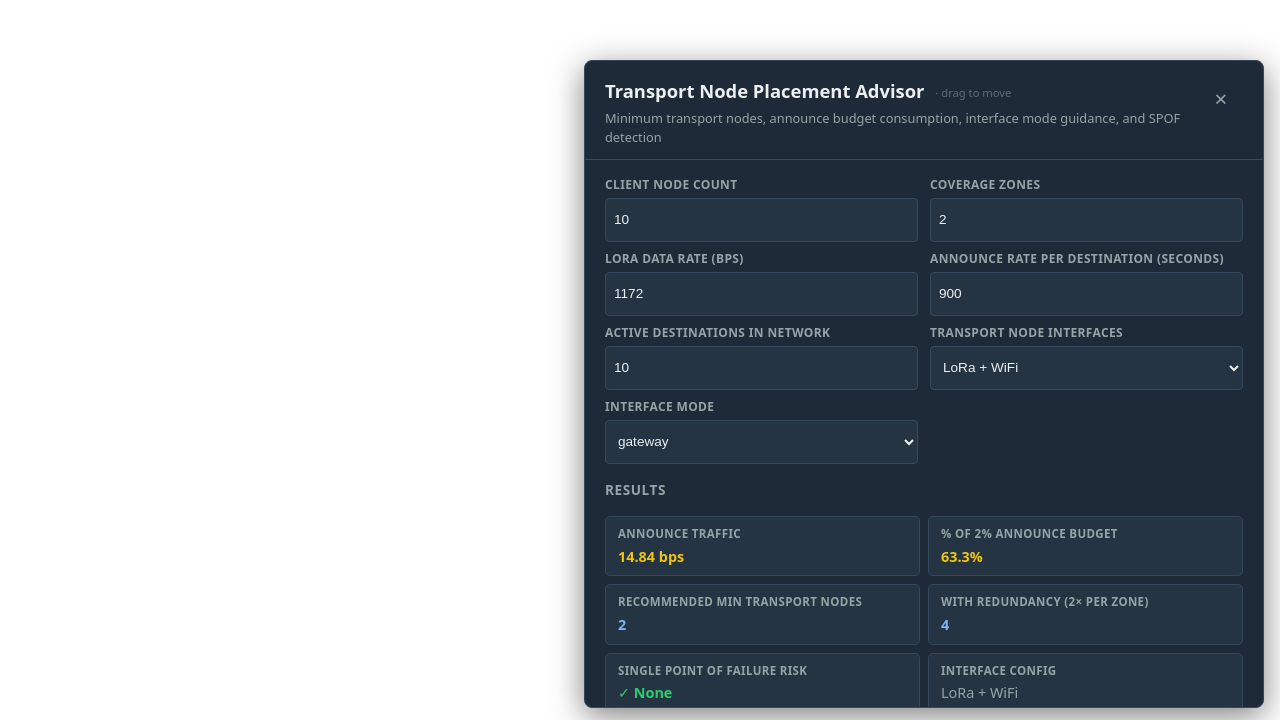
Test: RNSTransportModal — interaction › convergence warning shown for many transport nodes (>10)
Step 1. Replace the text in the number field labelled "Coverage zones" with "20" → (1086, 220), box [930,198,1243,242]
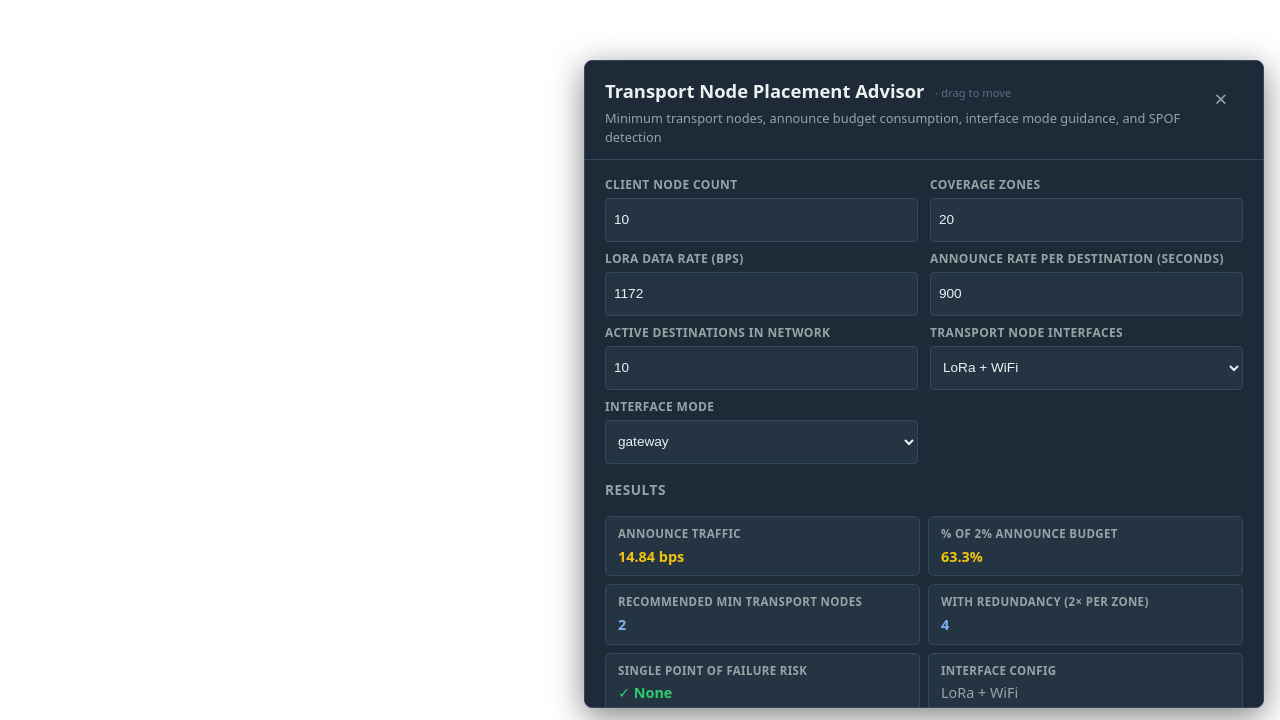
Step 2. Leave the number field labelled "Coverage zones", box [930,198,1243,242]
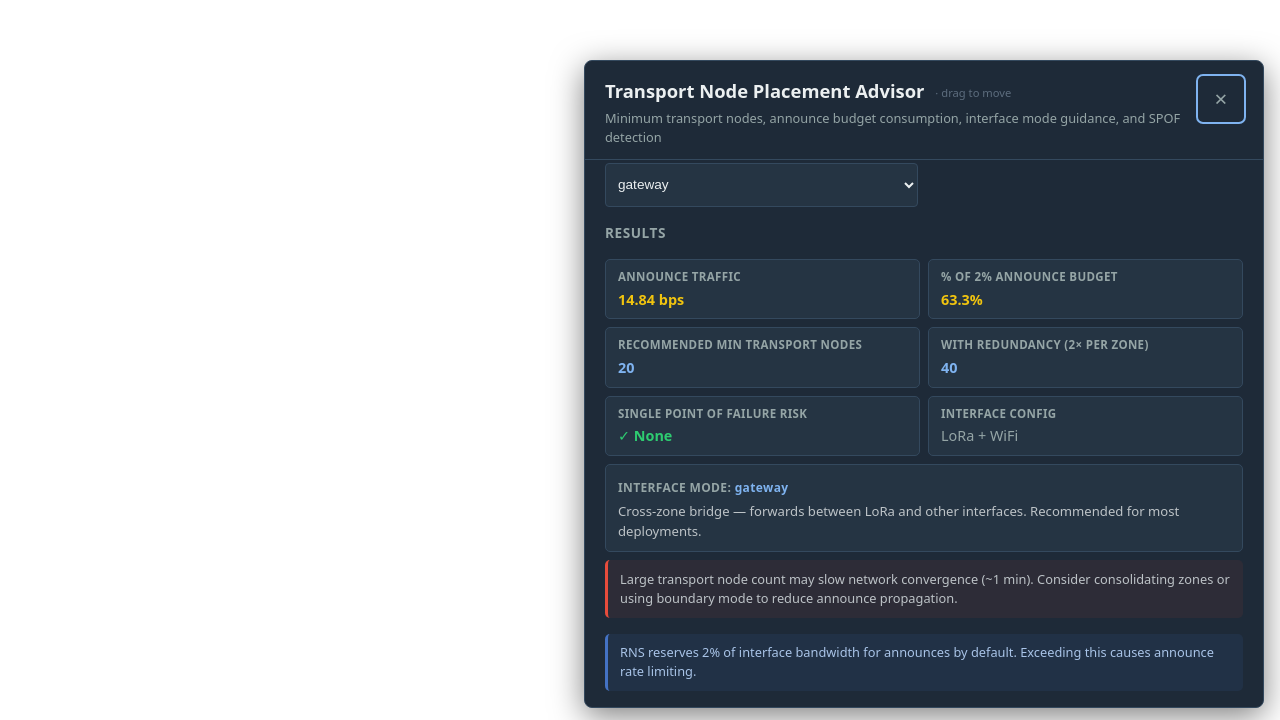
Now the text "Large transport node count may slow" is shown, box [620,570,1230,607]
